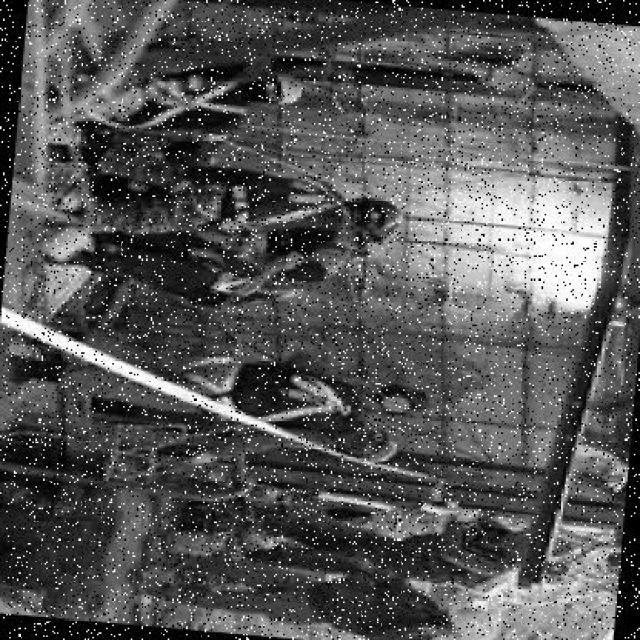Arnes_seguridad: (172, 340, 363, 443), (170, 163, 359, 243), (76, 68, 252, 145), (201, 237, 302, 316)
